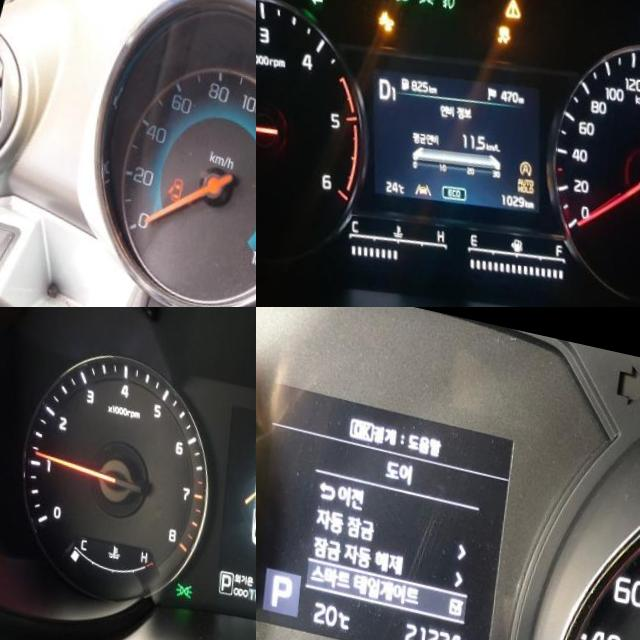Doors: (171, 164, 190, 193)
SideLamp: (183, 569, 200, 587)
